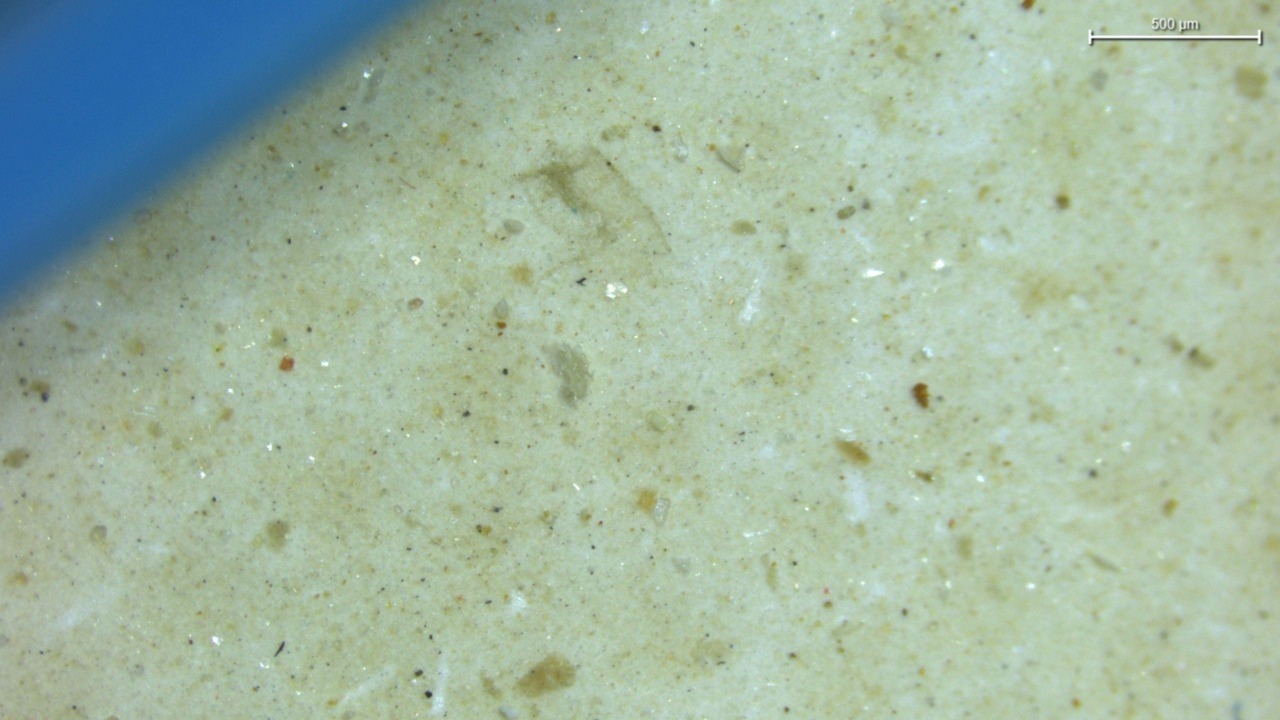microplastic_fragment: (544, 344, 591, 404)
